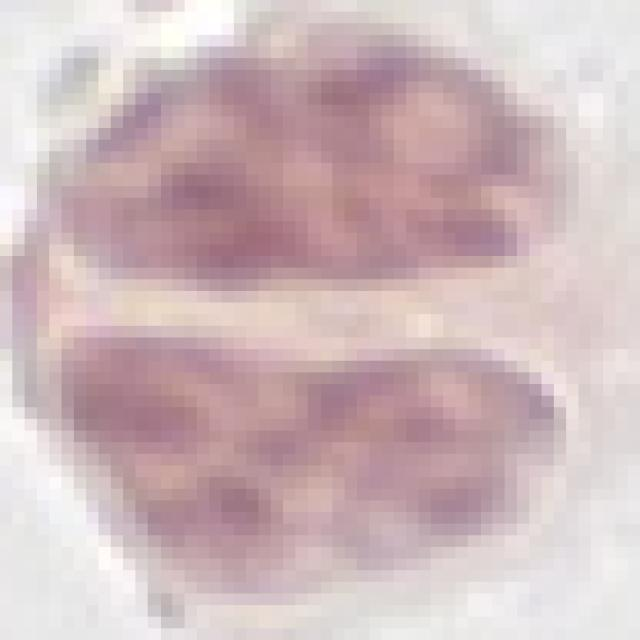cytoplasm: (0, 0, 628, 628)
nucleus: (45, 320, 573, 616), (70, 32, 576, 304)
